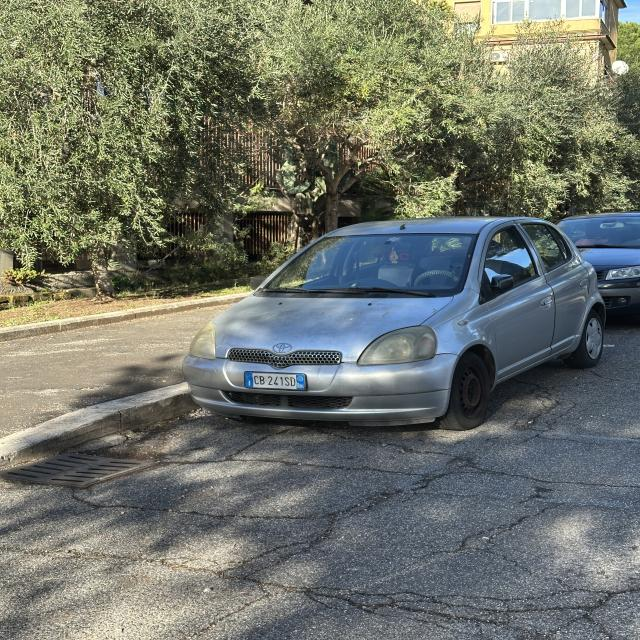number_plate: (245, 372, 306, 390)
